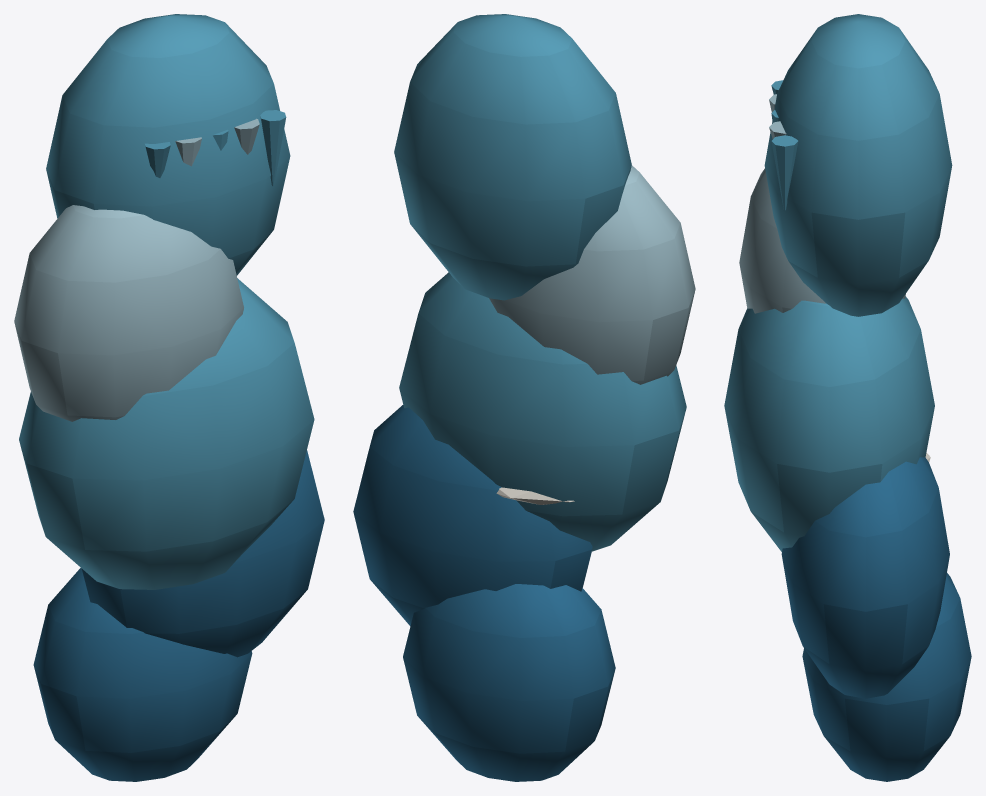
File: glacier_cave_buttress_v1.glb
3 renders of one model, left to right at view 1: azimuth 30°, elevation 25°; view 2: azimuth 150°, elevation 25°; view 3: azimuth 270°, elevation 25°, orthographic. The views are drawn at different scales.
Visible parts, largest first — view 1: glacier_cave_buttress_v1; view 2: glacier_cave_buttress_v1; view 3: glacier_cave_buttress_v1.
Part boxes in pixels (left/top/right/bottom): glacier_cave_buttress_v1: left=14, top=14, right=324, bottom=781; glacier_cave_buttress_v1: left=353, top=14, right=695, bottom=781; glacier_cave_buttress_v1: left=724, top=14, right=971, bottom=781.
Size of the model in its own units: 3.75 by 8.66 by 2.57.
